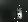person: (18, 9, 23, 20)
